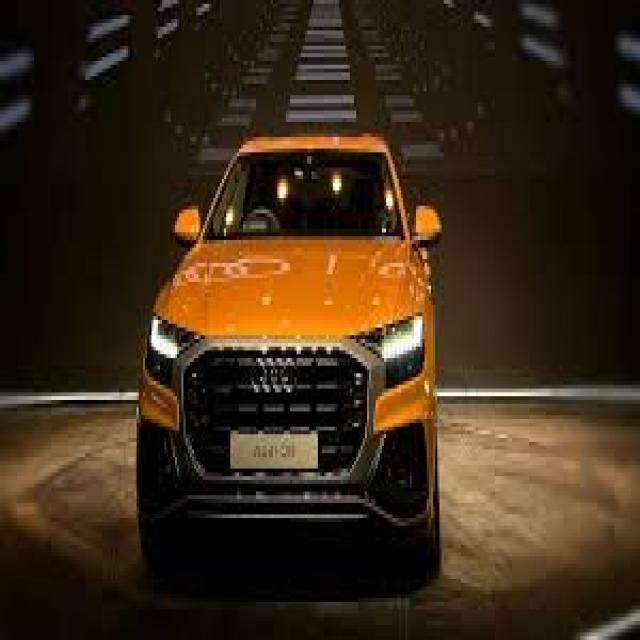SUV: (129, 119, 441, 581)
